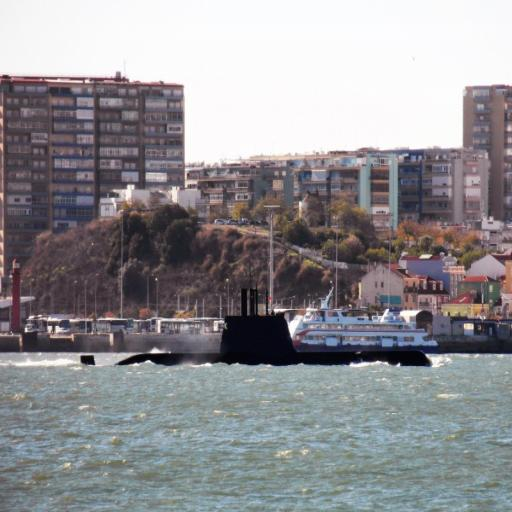submarine: (82, 288, 432, 366)
